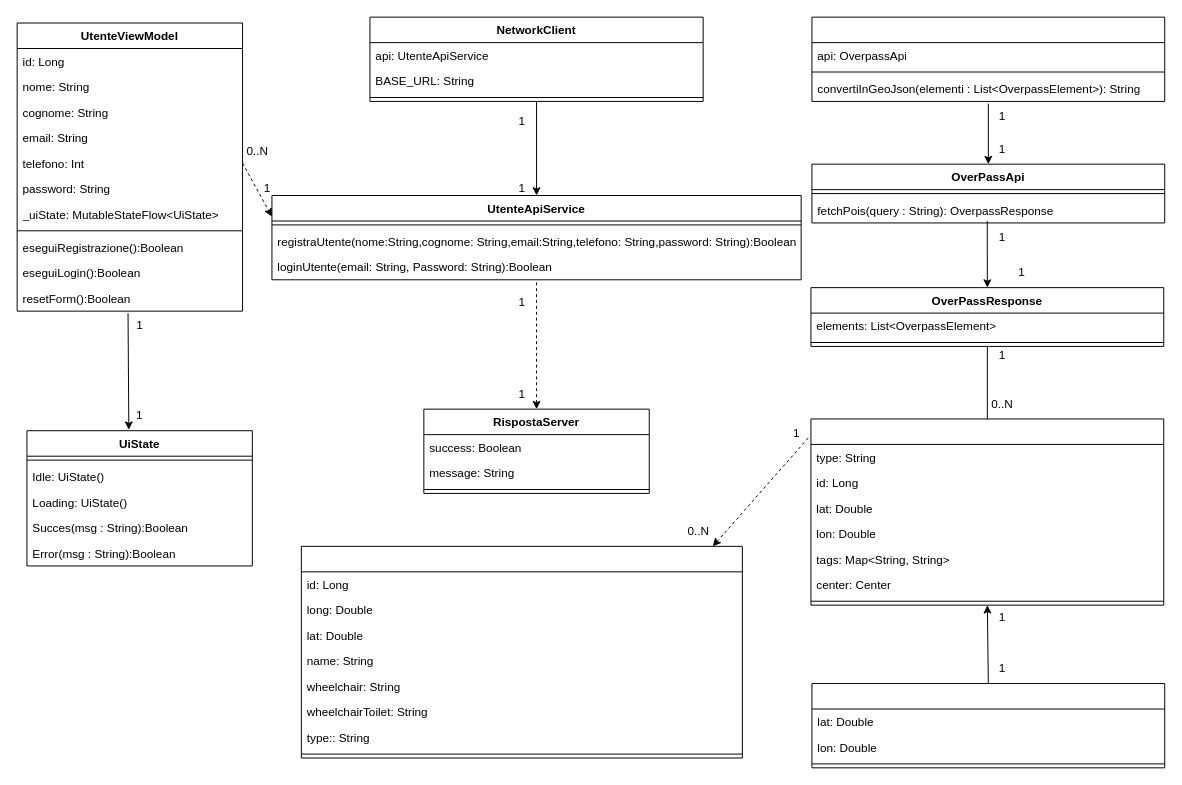
The diagram is 1182 pixels wide and 785 high, and some of its shapes have lost their labels. Here are the shapes that lost their labels. From the top down, the box of each, then its label:
(811, 16, 1165, 101): OverPassService
(810, 418, 1164, 605): OverPassElement
(300, 545, 742, 758): AccessibilityPoi
(811, 683, 1165, 768): Center
